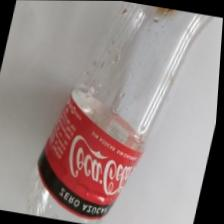plastic: (0, 0, 221, 223)
